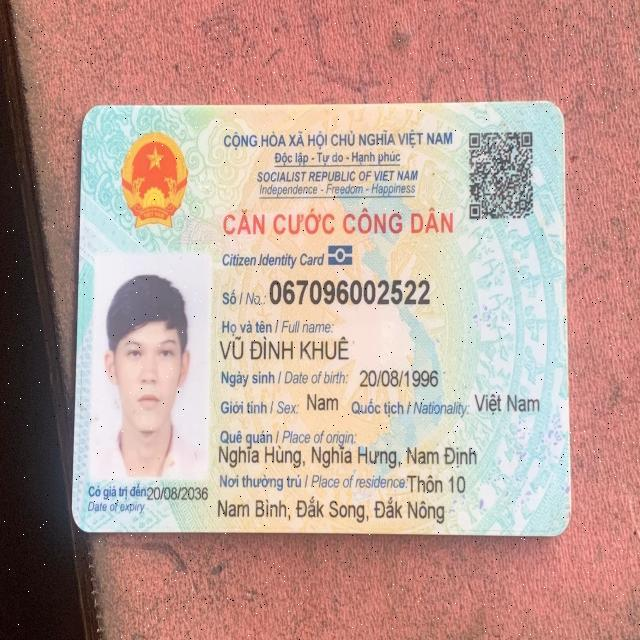current_place: (217, 493, 448, 526), (403, 473, 470, 494)
dob: (358, 364, 440, 390)
expire_date: (147, 485, 210, 507)
gender: (301, 388, 345, 416)
id: (268, 274, 433, 309)
name: (217, 332, 349, 365)
nationality: (468, 387, 545, 418)
origin_place: (216, 442, 478, 472)
qr: (465, 127, 538, 223)
